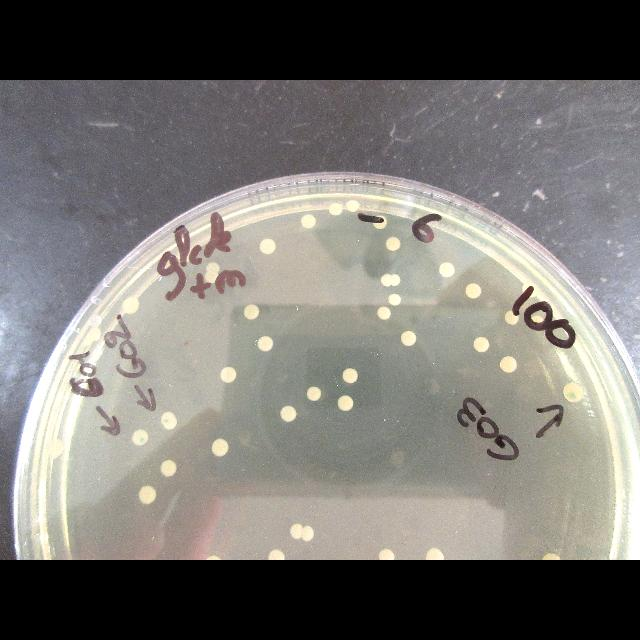colony: (564, 382, 584, 402), (122, 296, 140, 314), (139, 485, 156, 504), (161, 411, 178, 430), (131, 429, 149, 446), (211, 439, 229, 456), (160, 460, 178, 476), (280, 406, 298, 422), (500, 356, 518, 372), (260, 239, 276, 255), (220, 366, 236, 382), (244, 304, 260, 320), (338, 395, 354, 411), (342, 368, 358, 384), (439, 262, 455, 278), (258, 336, 274, 351), (385, 236, 401, 251), (465, 284, 481, 299), (301, 214, 316, 229), (306, 386, 321, 401), (401, 331, 416, 346), (474, 338, 490, 352), (426, 548, 444, 560), (505, 310, 519, 325), (301, 525, 314, 541), (329, 202, 342, 216), (378, 306, 391, 320), (290, 524, 302, 539), (269, 549, 285, 560), (379, 549, 395, 560), (206, 262, 220, 274), (346, 200, 360, 212), (389, 294, 401, 306), (542, 552, 560, 560), (390, 274, 401, 286), (380, 274, 391, 286)
